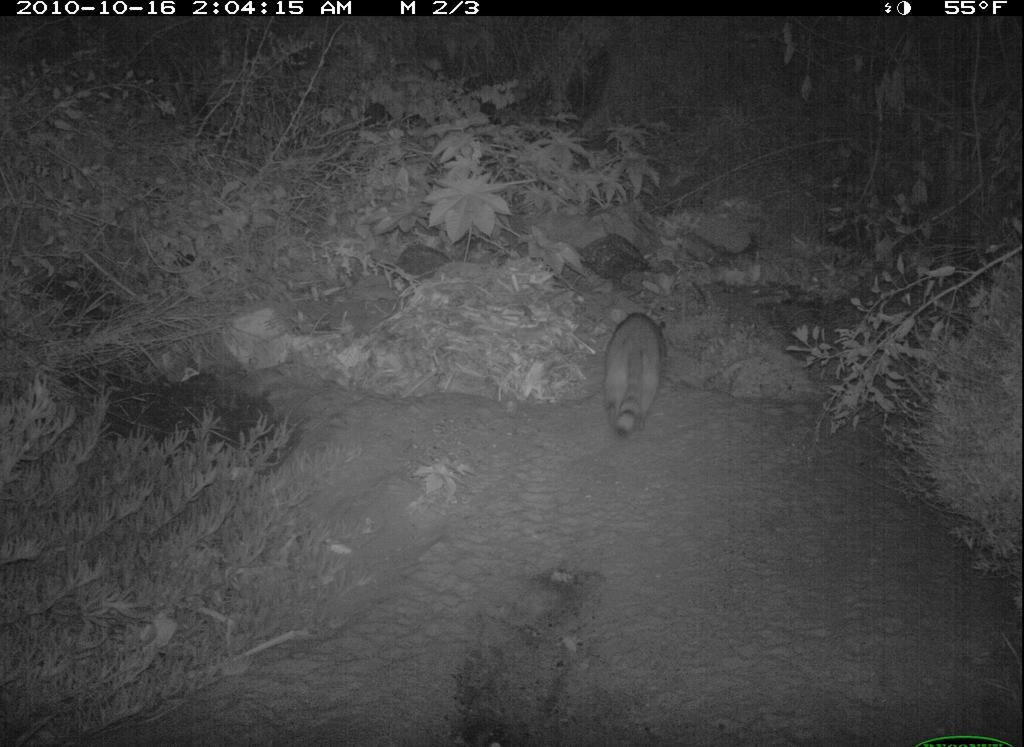raccoon: (598, 304, 687, 446)
